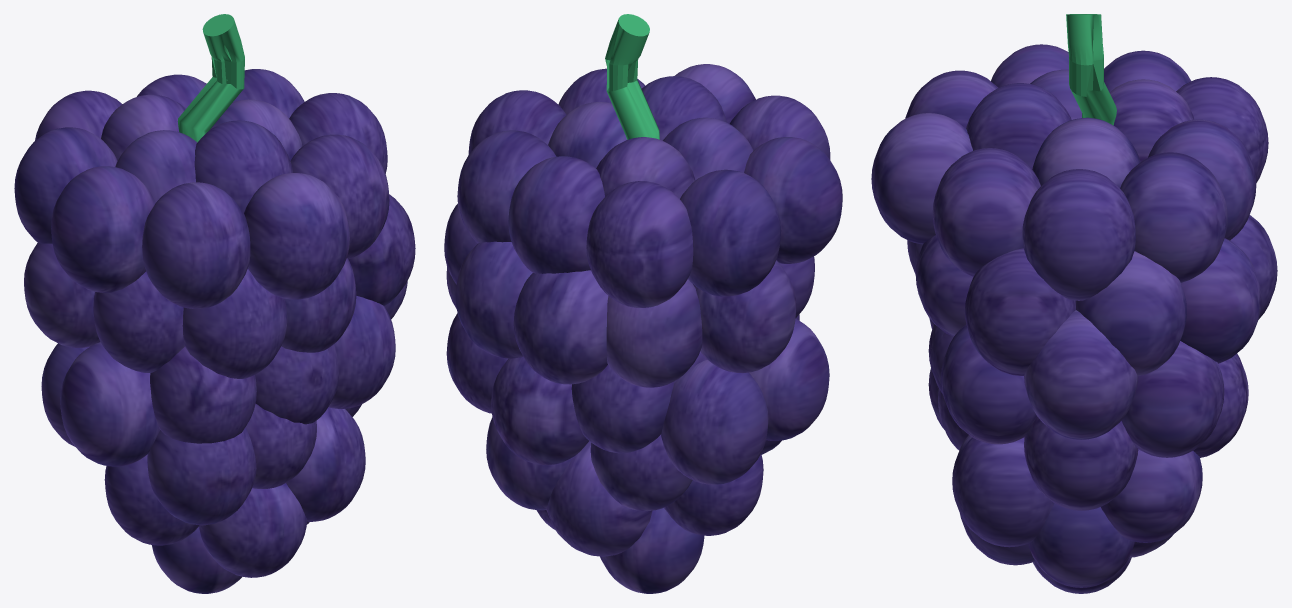
The model's file is Grapes.fbx.
3 views of the same model, side by side, from view 1: azimuth 30°, elevation 25°; view 2: azimuth 150°, elevation 25°; view 3: azimuth 270°, elevation 25° (orthographic). The views are drawn at different scales.
Visible parts, largest first — view 1: Grapes1; view 2: Grapes1; view 3: Grapes1.
Boxes of the visible parts, box(x1,y1,x2,y2) form: Grapes1: box(14, 14, 415, 593); Grapes1: box(444, 14, 842, 593); Grapes1: box(871, 14, 1277, 593).
Size of the model in its own units: 0.7755 by 1.16 by 0.7246.
